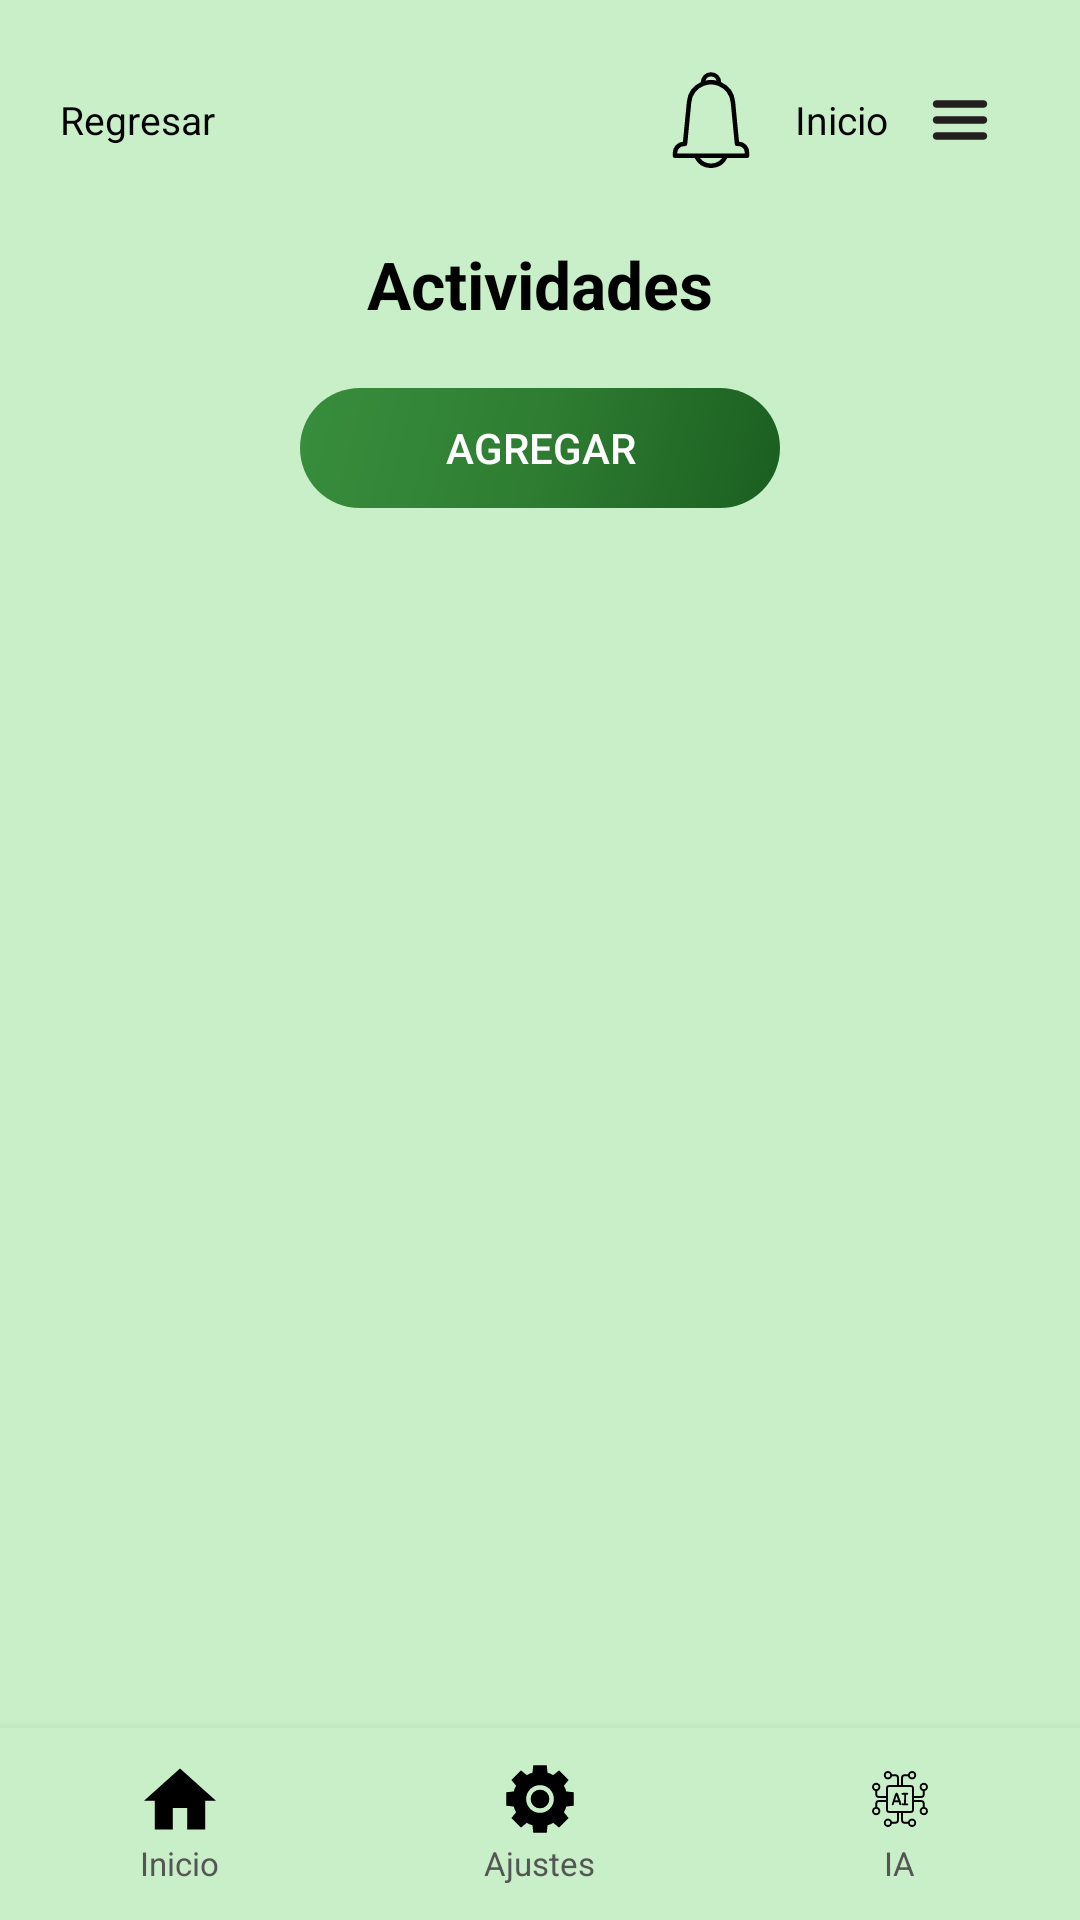

Icon click points for this 1080px×1920px phone screenshot, format point (x, y):
Menu: point (960, 120)
